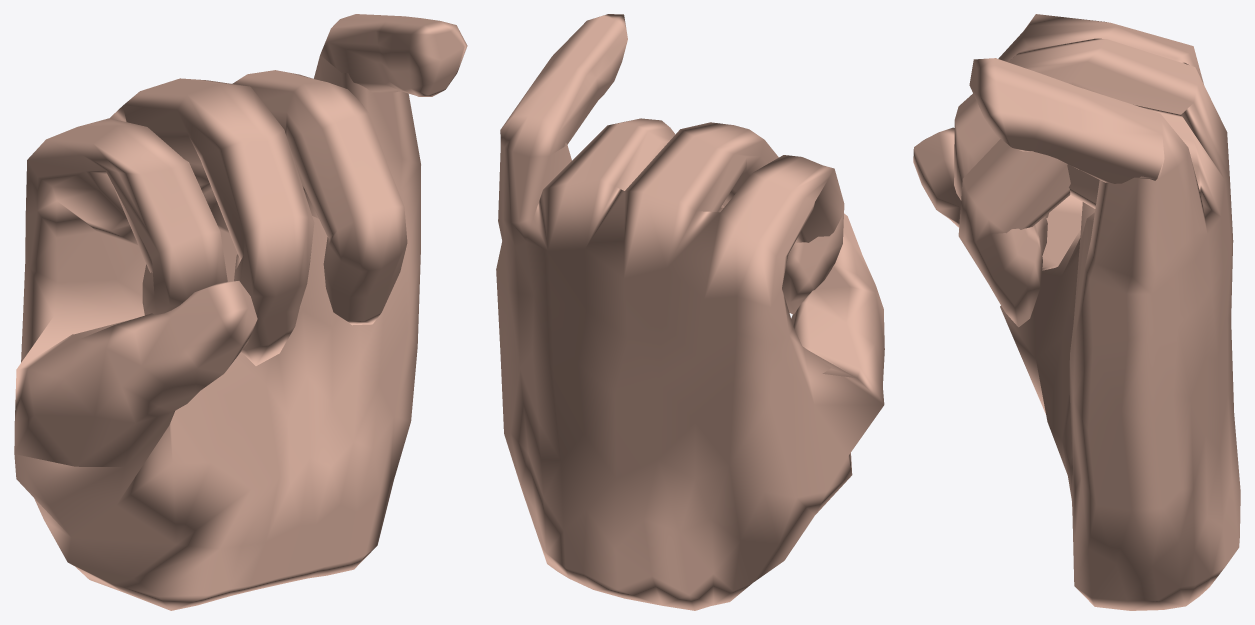
The model's file is MAO_3_PARA_FRENTE.obj.
The picture shows the model from 3 angles, left to right: view 1: azimuth 30°, elevation 25°; view 2: azimuth 150°, elevation 25°; view 3: azimuth 270°, elevation 25°; orthographic projection. The views are drawn at different scales.
Parts seen in each view (by area): view 1: mao_dir polySurface1; view 2: mao_dir polySurface1; view 3: mao_dir polySurface1.
Boxes of the visible parts, box(x1,y1,x2,y2) form: mao_dir polySurface1: box(14, 14, 467, 610); mao_dir polySurface1: box(496, 14, 884, 610); mao_dir polySurface1: box(913, 14, 1240, 610).
Size of the model in its own units: 137 by 177 by 93.73.
